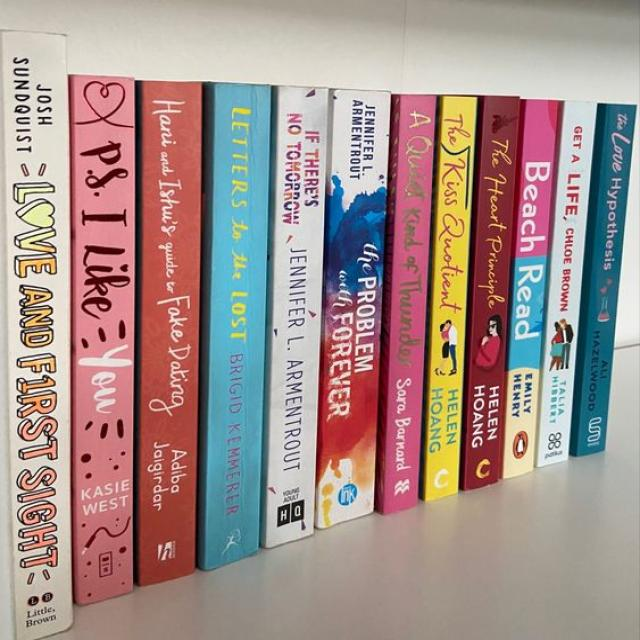book: (0, 30, 72, 639), (197, 83, 271, 570), (70, 76, 134, 604), (135, 83, 201, 585), (316, 92, 389, 528), (261, 85, 329, 548), (375, 96, 435, 514), (459, 97, 517, 488), (570, 103, 634, 454), (501, 99, 560, 478), (535, 102, 596, 466), (423, 97, 475, 501)
